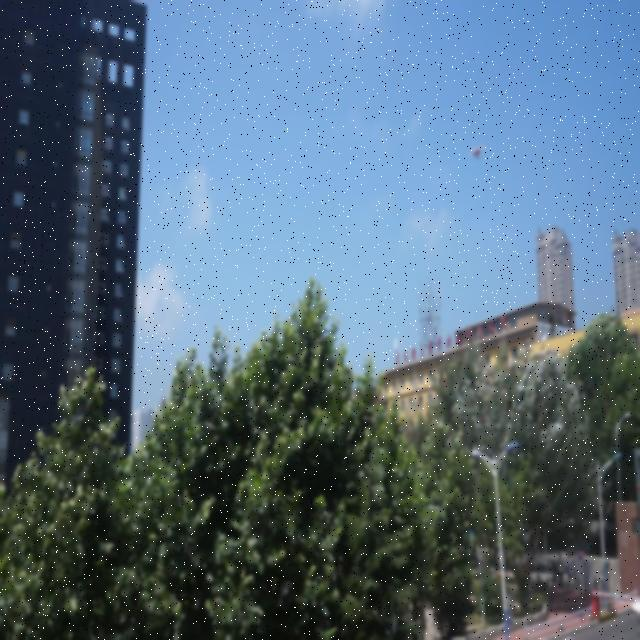UAV: (467, 146, 486, 160)
